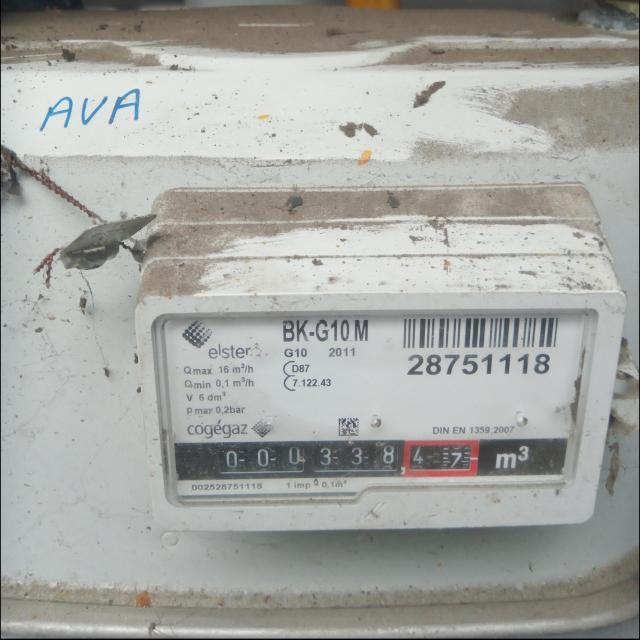gaz_meter: (156, 306, 588, 491)
indication: (174, 440, 477, 479)
